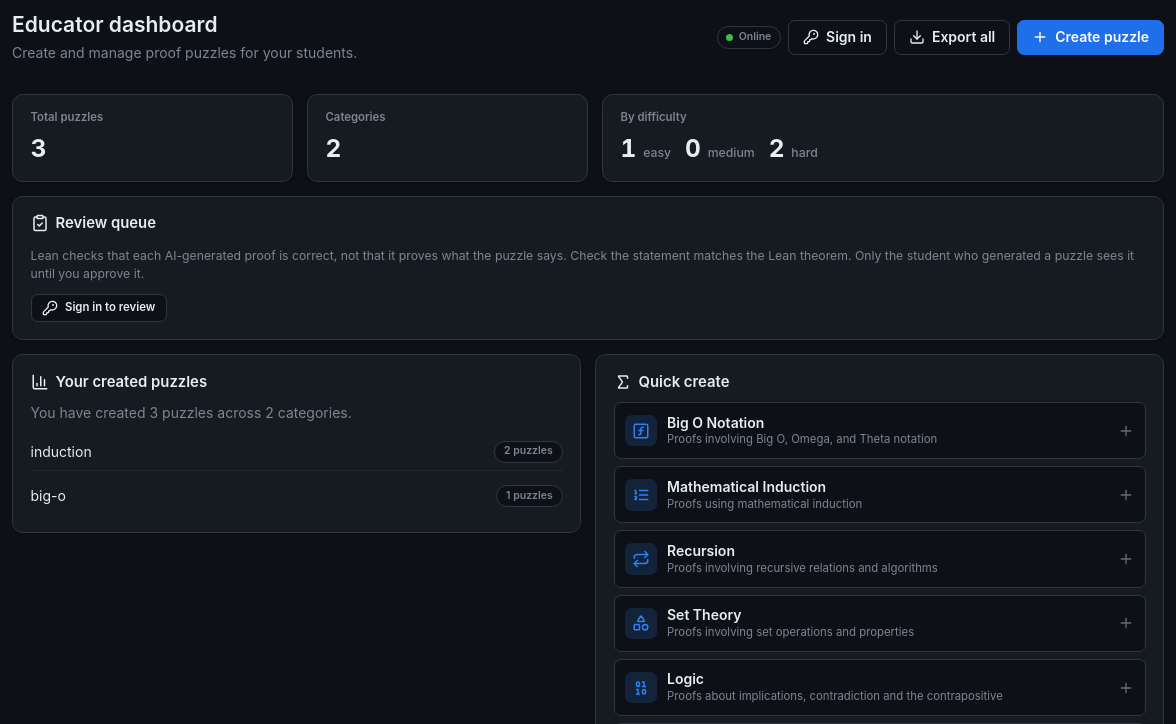
it: EducatorPage › opens the creator for the chosen quick-create category
Click the button "Set Theory Proofs involving set operations and properties".
click(880, 623)  # box [614, 595, 1146, 652]
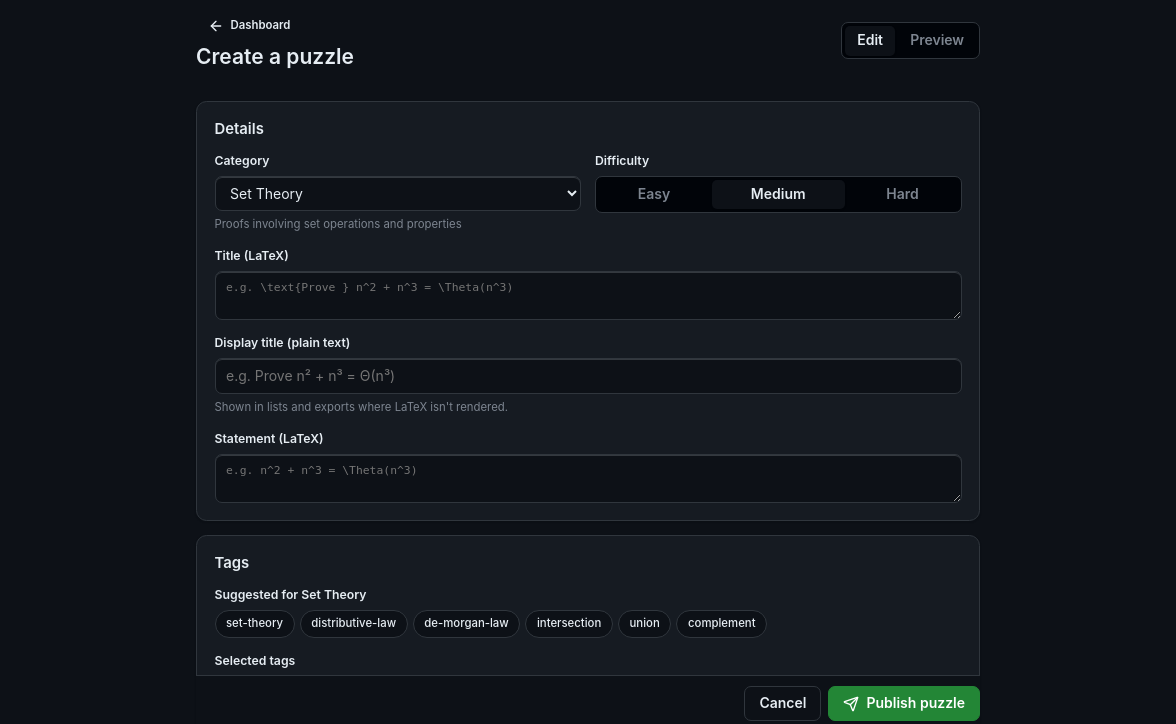
Expected: the heading "Create a puzzle" is shown, [196, 44, 354, 70]
Expected: the dropdown labelled "Category" shows "Set Theory", [214, 176, 581, 211]
Click the button "Dashboard".
click(249, 26)  # box [196, 12, 302, 40]
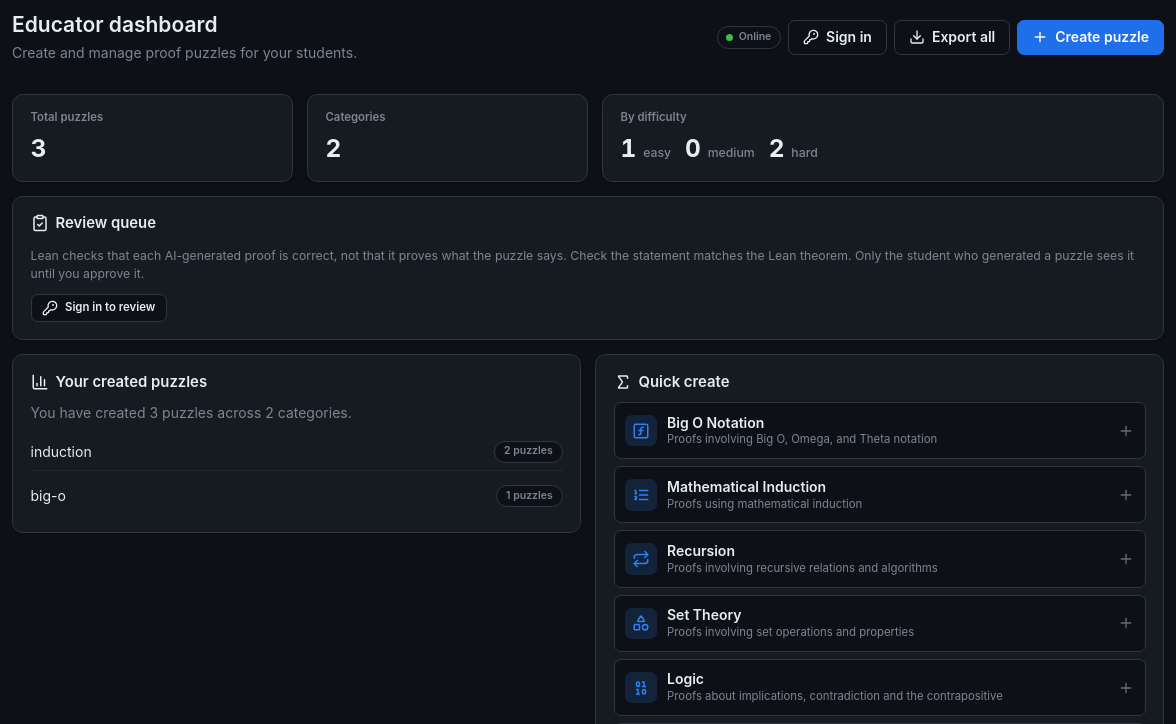
Expected: the heading "Educator dashboard" is shown, [12, 12, 218, 37]
